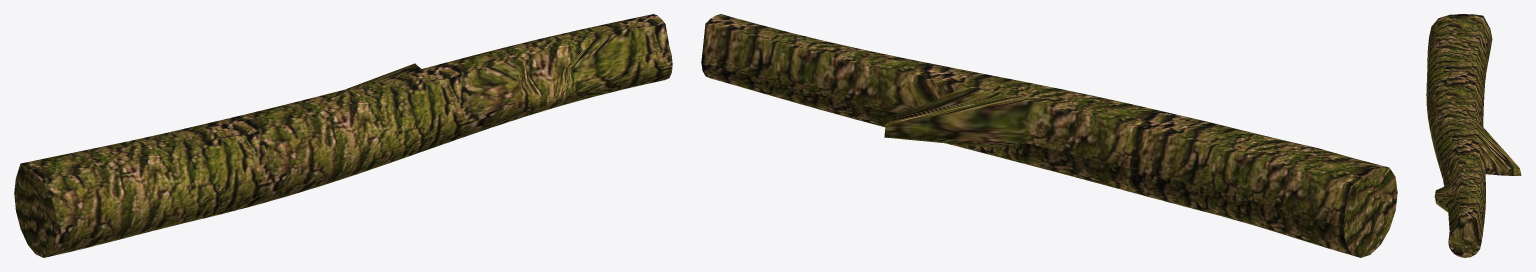
The model's file is tronco.obj.
3 views of the same model, side by side, from view 1: azimuth 30°, elevation 25°; view 2: azimuth 150°, elevation 25°; view 3: azimuth 270°, elevation 25° (orthographic). The views are drawn at different scales.
Size of the model in its own units: 151 by 18.12 by 29.4.
1 material, 1 textured.
